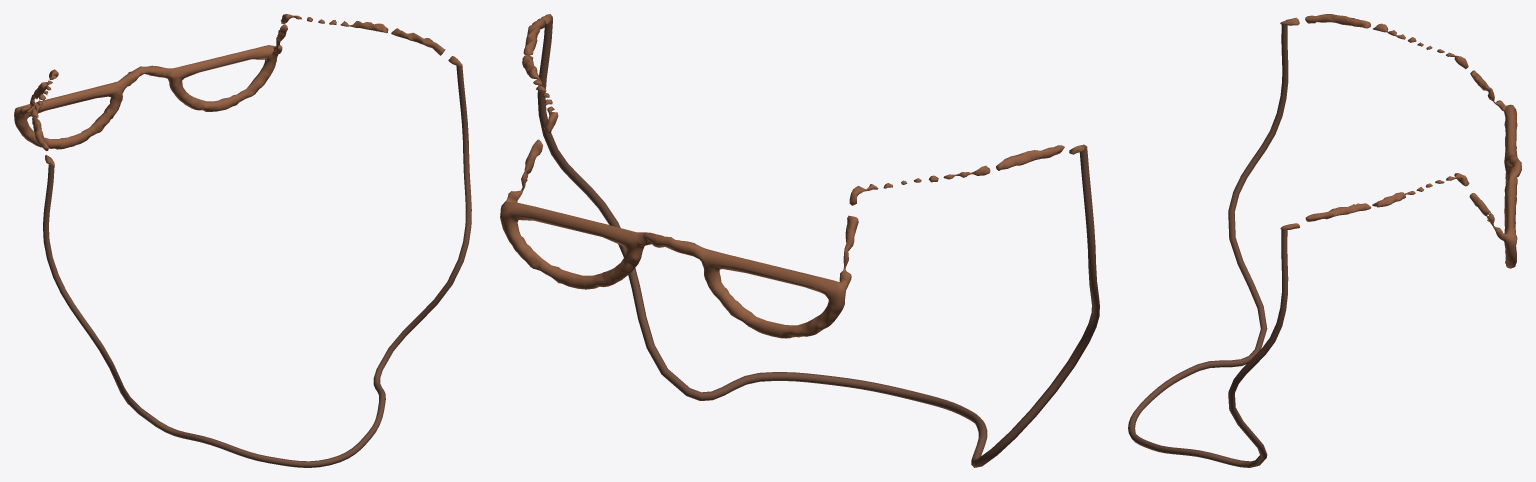
File: glasses_halfmoon_f.glb
The picture shows the model from 3 angles, left to right: view 1: azimuth 30°, elevation 25°; view 2: azimuth 150°, elevation 25°; view 3: azimuth 270°, elevation 25°; orthographic projection. The views are drawn at different scales.
Parts seen in each view (by area): view 1: Acc_glasses_halfmoon_GlassesMoon, Acc_glasses_halfmoon_GlassesCord; view 2: Acc_glasses_halfmoon_GlassesMoon, Acc_glasses_halfmoon_GlassesCord; view 3: Acc_glasses_halfmoon_GlassesCord, Acc_glasses_halfmoon_GlassesMoon.
Part boxes in pixels (x1,y1,x2,y2): Acc_glasses_halfmoon_GlassesMoon: [14, 14, 462, 166]; Acc_glasses_halfmoon_GlassesCord: [43, 65, 471, 467]; Acc_glasses_halfmoon_GlassesMoon: [500, 14, 1086, 338]; Acc_glasses_halfmoon_GlassesCord: [537, 16, 1099, 467]; Acc_glasses_halfmoon_GlassesCord: [1128, 24, 1288, 467]; Acc_glasses_halfmoon_GlassesMoon: [1280, 14, 1521, 268].
Size of the model in its own units: 0.3903 by 0.2722 by 0.3035.
